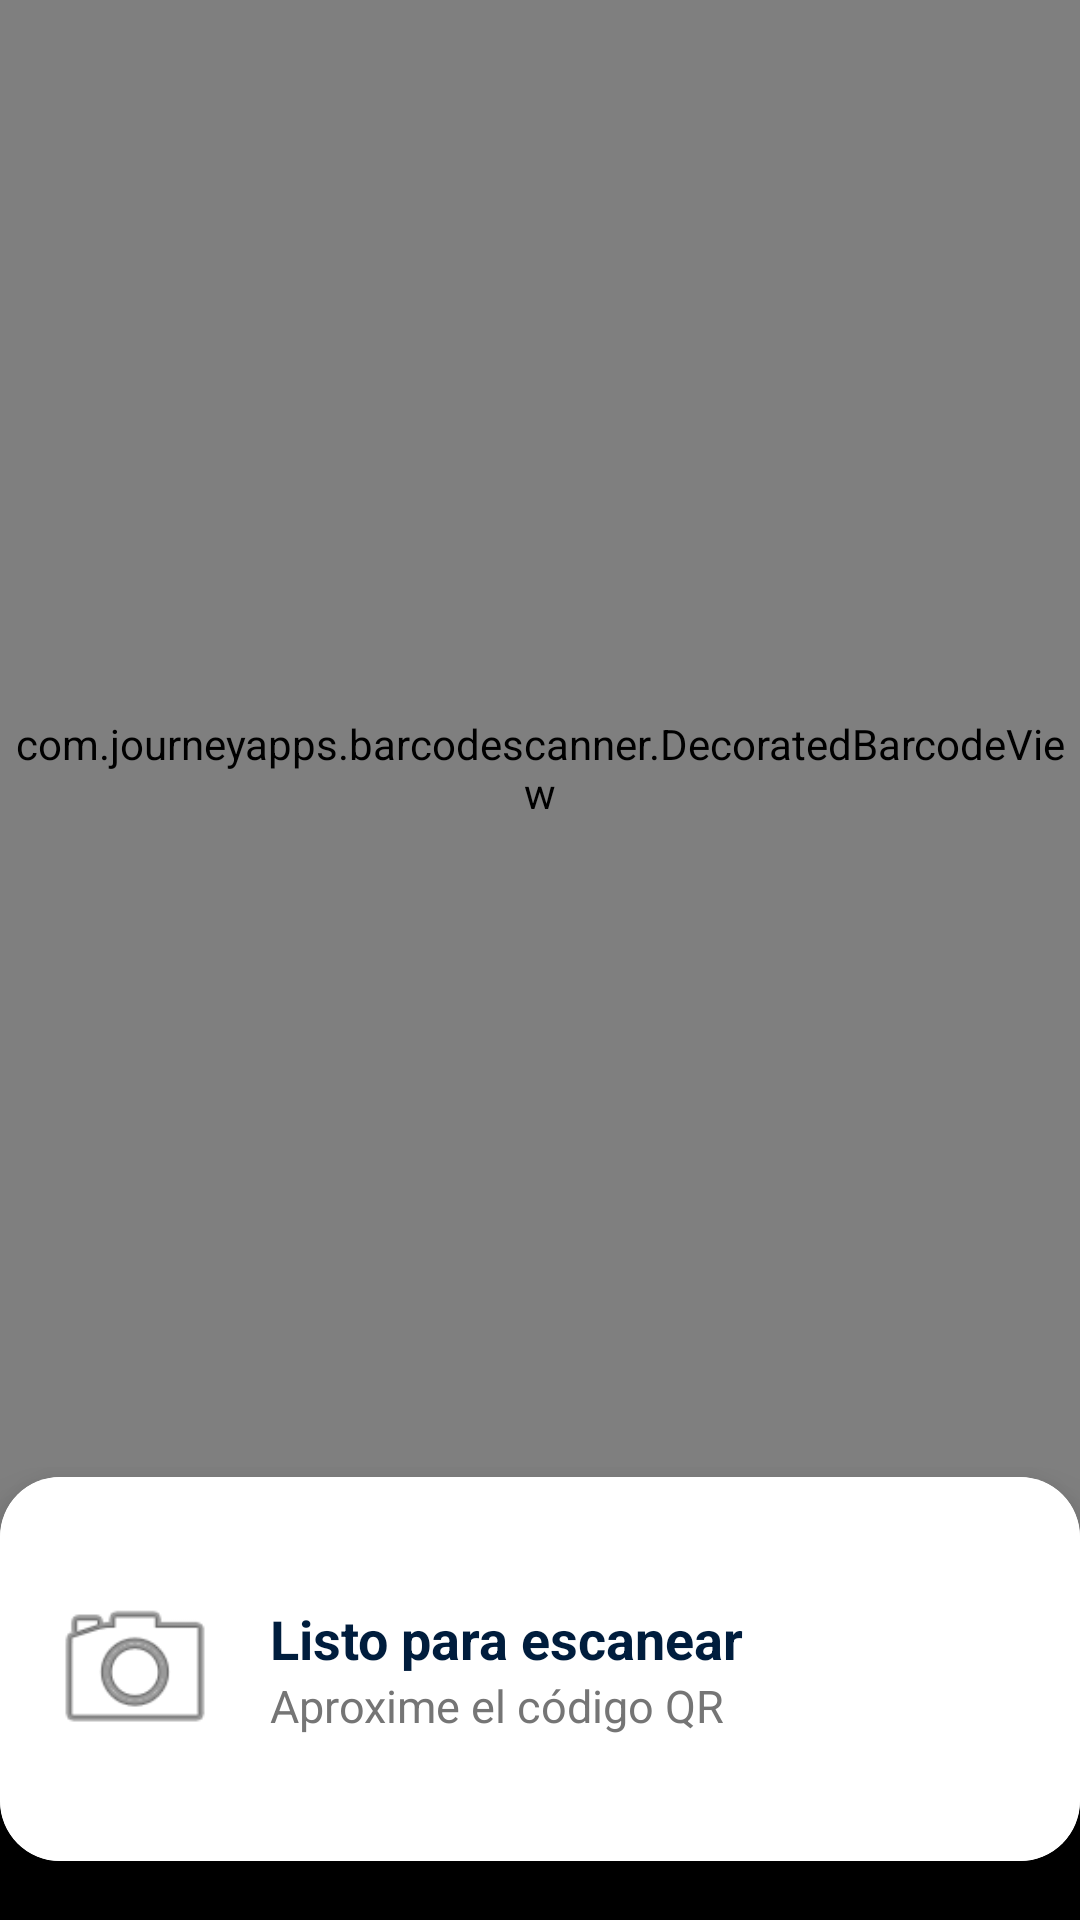

Icons on this 1080 × 1920 Android screen, each with its box as (x1, y1, x2, y2):
camera: (65, 1611, 205, 1722)
